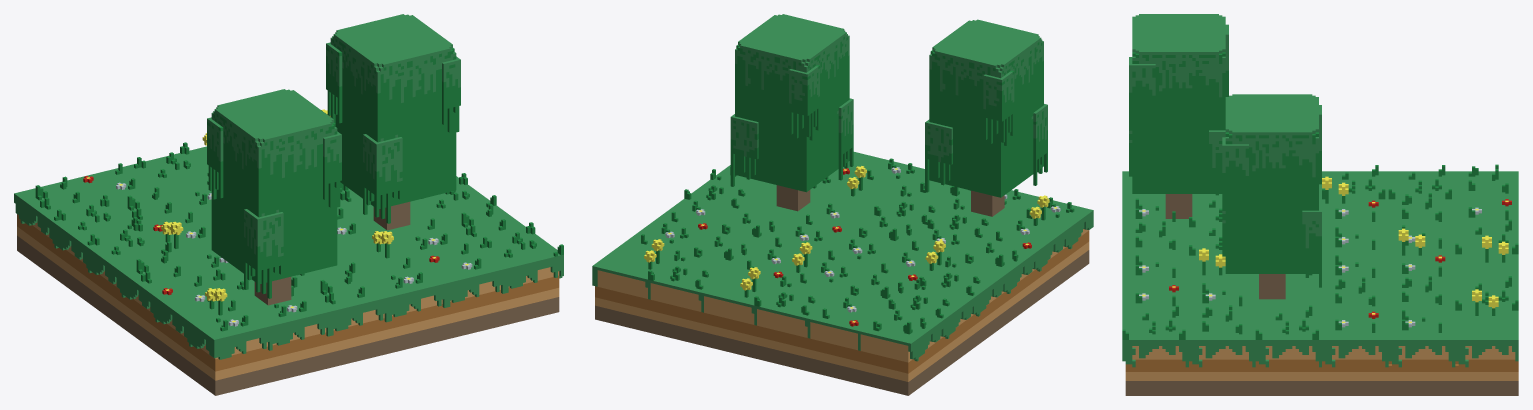
The model's file is map1.obj.
3 renders of one model, left to right at view 1: azimuth 30°, elevation 25°; view 2: azimuth 150°, elevation 25°; view 3: azimuth 270°, elevation 25°, orthographic. The views are drawn at different scales.
Size of the model in its own units: 12 by 7.9 by 11.9.
Materials: 1 (1 with a texture image).
